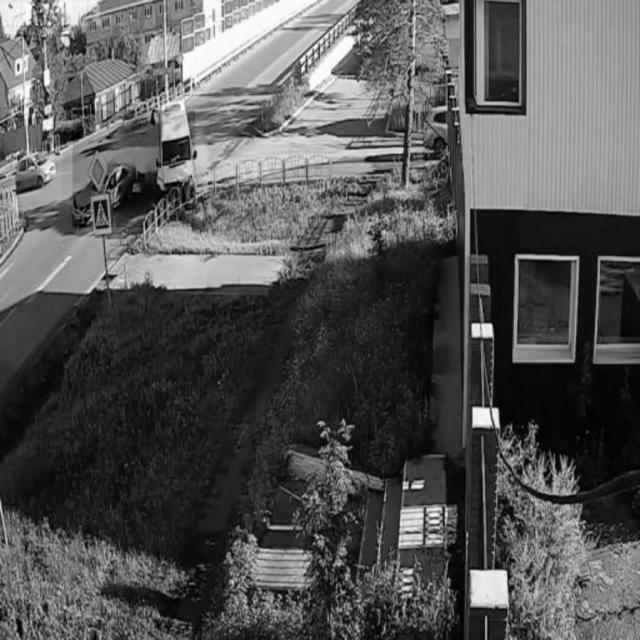accident: (72, 110, 194, 228)
vehicle: (12, 147, 62, 201)
